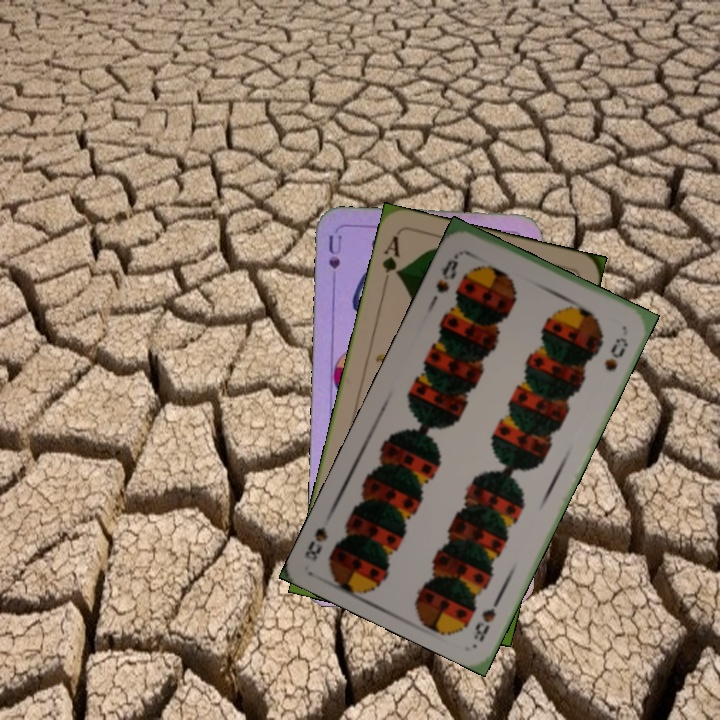GA: (377, 232, 403, 289)
S8: (469, 589, 506, 644), (431, 247, 471, 296)
SU: (324, 231, 344, 271)
